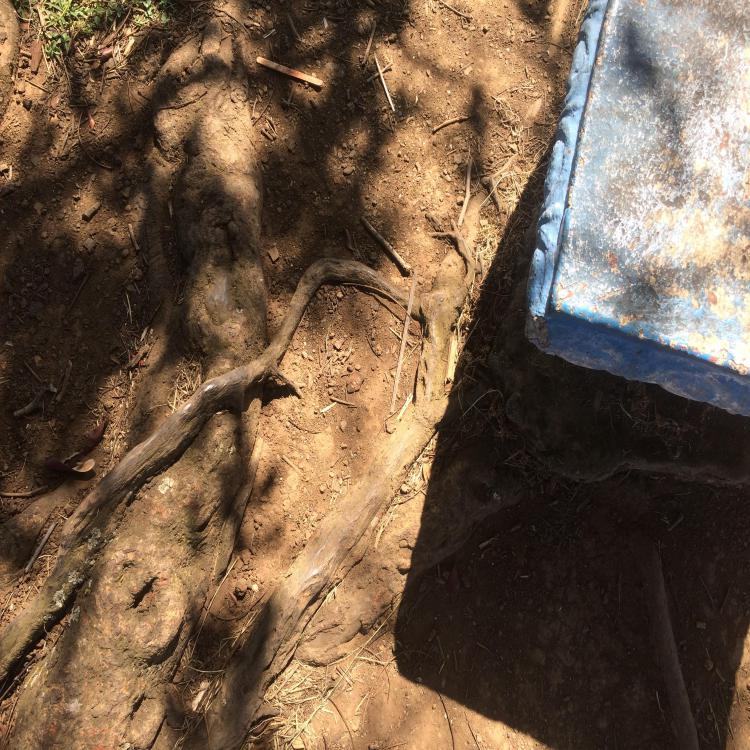Plastic straw: (390, 268, 418, 412)
Unlabeled litter: (375, 56, 395, 112)
